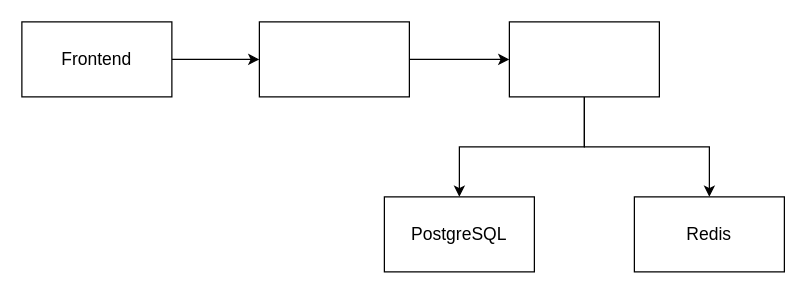
This 806x294 diagram has some shape labels left out. Here are the shapes that lost their labels. From the top down, the box of each, then its label:
(258, 21, 409, 97): API Gateway
(508, 21, 659, 97): Auth Service
